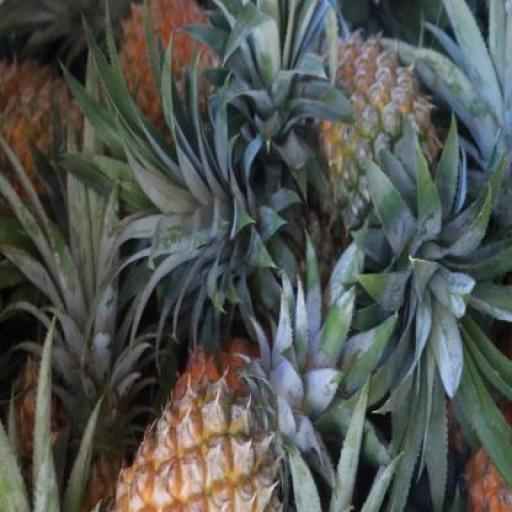------------------------------: (312, 33, 452, 244)
Pineapple - v8 v1: (106, 357, 289, 512)
